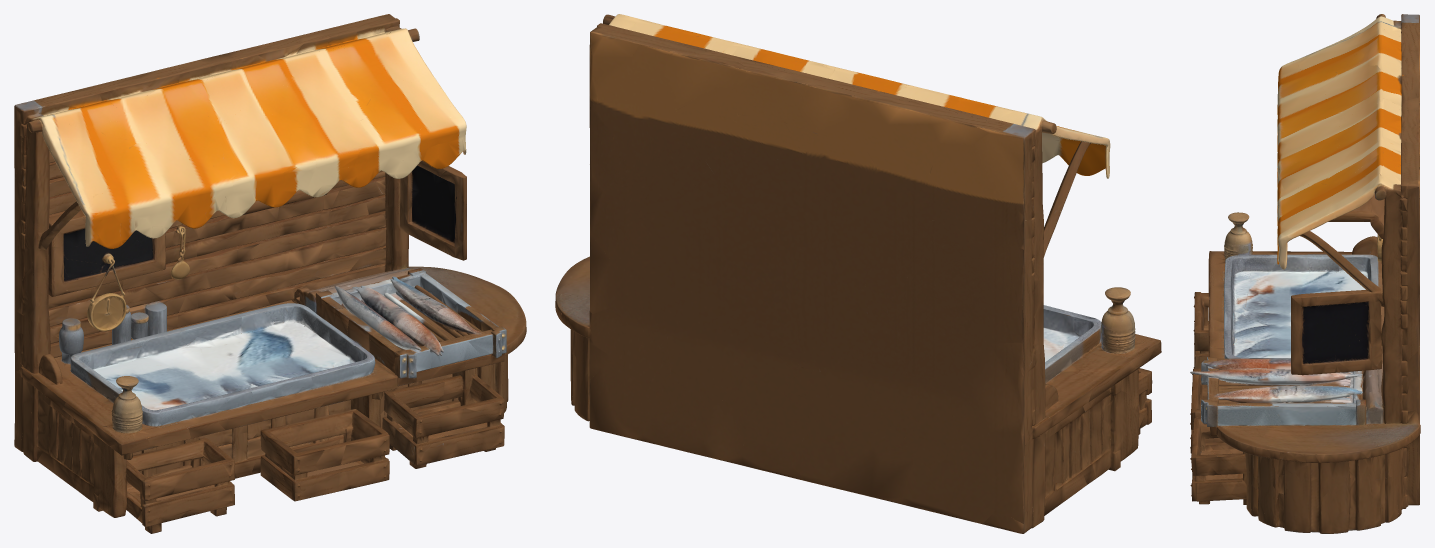
File: banco_pesce_lod0.glb
3 views of the same model, side by side, from view 1: azimuth 30°, elevation 25°; view 2: azimuth 150°, elevation 25°; view 3: azimuth 270°, elevation 25° (orthographic). The views are drawn at different scales.
Visible parts, largest first — view 1: Mesh_0; view 2: Mesh_0; view 3: Mesh_0.
Boxes of the visible parts, x1,y1,x2,y2 form: Mesh_0: [14, 14, 526, 533]; Mesh_0: [555, 14, 1161, 533]; Mesh_0: [1190, 14, 1420, 533].
Size of the model in its own units: 3.35 by 2.5 by 1.6.
Materials: 1 (1 with a texture image).
